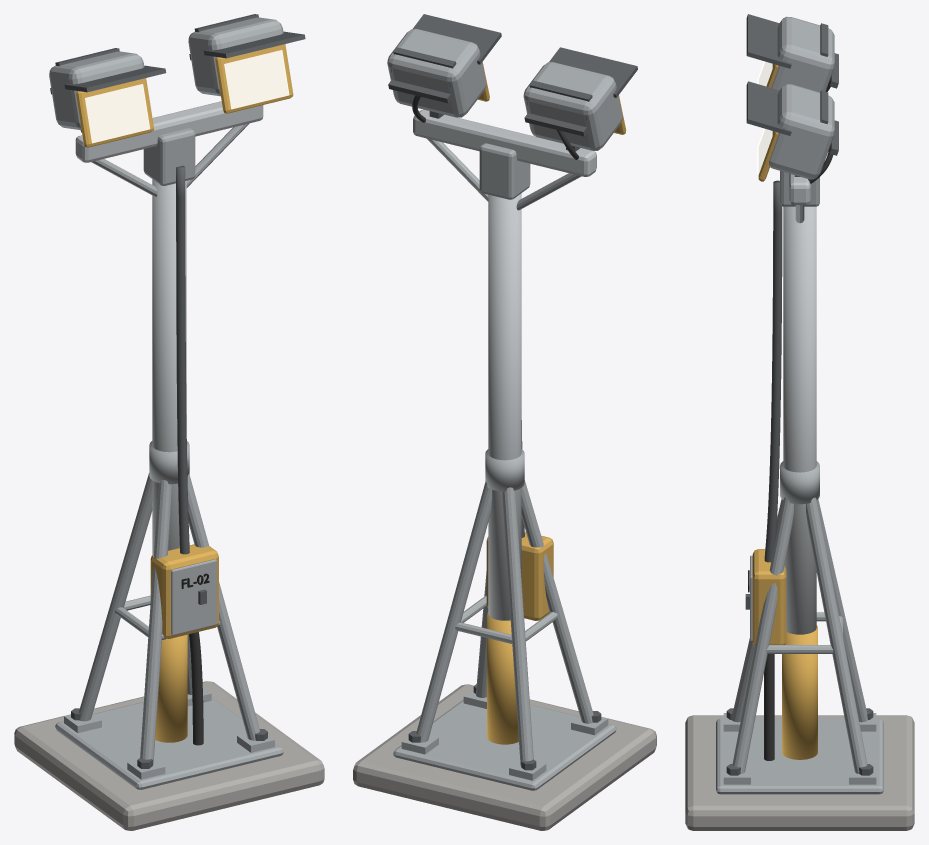
The model's file is coastal-floodlight-mast.glb.
3 views of the same model, side by side, from view 1: azimuth 30°, elevation 25°; view 2: azimuth 150°, elevation 25°; view 3: azimuth 270°, elevation 25° (orthographic). The views are drawn at different scales.
Parts seen in each view (by area): view 1: ConcretePad, BasePlate, MainPole, Conduit, CrossArm, Brace_0, Brace_1, PaintBand, LampHousing_R, LampHousing_L, CableBoxDoor, LampLens_R (+12 smaller); view 2: ConcretePad, MainPole, BasePlate, LampHousing_R, LampHousing_L, CrossArm, Brace_1, Brace_3, PaintBand, Brace_0, ArmBracket, CableBox (+8 smaller); view 3: ConcretePad, MainPole, BasePlate, LampHousing_R, PaintBand, Brace_3, Conduit, Brace_2, LampHousing_L, CableBox, LampVisor_L, LampVisor_R (+7 smaller).
Part boxes in pixels (<box>): ConcretePad: <box>14,681,324,830</box>; BasePlate: <box>55,697,283,789</box>; MainPole: <box>152,179,186,554</box>; Conduit: <box>176,166,189,554</box>; CrossArm: <box>75,101,263,162</box>; Brace_0: <box>140,480,171,764</box>; Brace_1: <box>79,473,152,721</box>; PaintBand: <box>155,634,187,742</box>; LampHousing_R: <box>188,17,283,96</box>; LampHousing_L: <box>49,51,144,130</box>; CableBoxDoor: <box>171,559,216,635</box>; LampLens_R: <box>224,50,289,109</box>; ConcretePad: <box>353,684,656,830</box>; MainPole: <box>488,193,521,620</box>; BasePlate: <box>393,699,616,790</box>; LampHousing_R: <box>387,28,486,117</box>; LampHousing_L: <box>523,62,622,150</box>; CrossArm: <box>413,109,596,176</box>; Brace_1: <box>502,487,533,766</box>; Brace_3: <box>416,481,491,742</box>; PaintBand: <box>487,611,518,744</box>; Brace_0: <box>521,480,593,723</box>; ArmBracket: <box>479,143,530,199</box>; CableBox: <box>486,531,553,620</box>; ConcretePad: <box>685,715,914,830</box>; MainPole: <box>783,206,816,634</box>; BasePlate: <box>716,718,883,794</box>; LampHousing_R: <box>769,84,834,179</box>; PaintBand: <box>782,625,817,759</box>; Brace_3: <box>806,497,867,774</box>; Conduit: <box>764,180,782,562</box>; Brace_2: <box>732,497,793,774</box>; LampHousing_L: <box>771,16,834,92</box>; CableBox: <box>752,549,786,646</box>; LampVisor_L: <box>746,14,791,68</box>; LampVisor_R: <box>746,81,791,135</box>.
Bounding box in the file's own units: 0.6247 × 1.99 × 0.5749.
